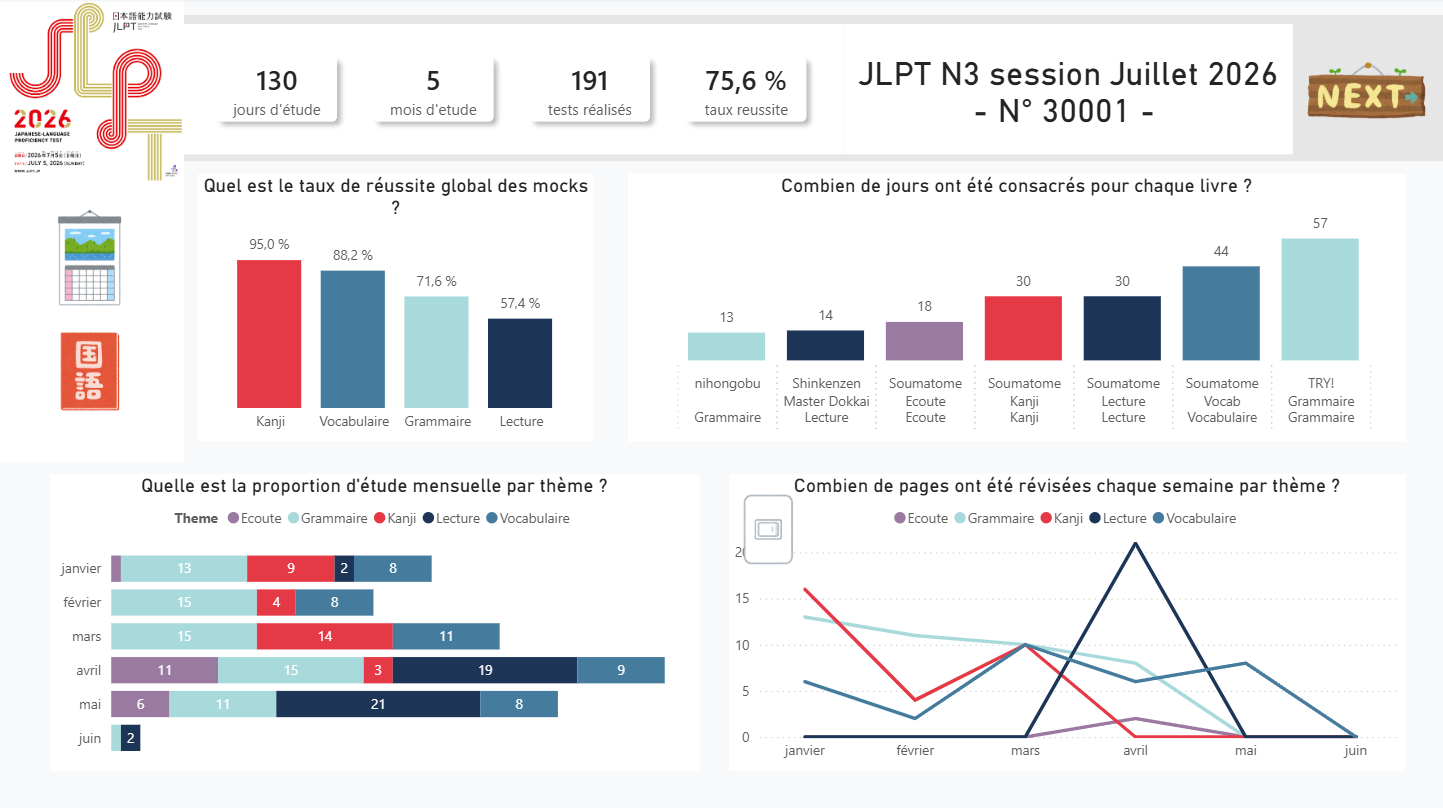

Layout of this report page (visuals, bound fields, positions):
{"tool":"powerbi","page":{"name":"Accueil","canvas":[1280,720],"ordinal":0},"visuals":[{"type":"textbox","box":[165,15,1115,128.8],"z":0},{"type":"lineChart","title":"Quel est le rythme d''avancement mensuel par thème ?","fields":{"Y":["_Mesures.avancement par theme"],"Series":["Dim_Theme.Theme"],"Category":["DimDate.Année Hiérarchie.Mois","DimDate.Année Hiérarchie.Semaine ISO"]},"box":[646,420,597,262],"z":500,"group":"g2"},{"type":"cardVisual","fields":{"Data":["_Mesures.jours etude unique","_Mesures.durée d'etude","_Mesures.nb test fait","_Mesures.taux reussite tests"]},"box":[165.2,23.1,581.7,115.4],"z":1000},{"type":"image","title":"btn_switch graphique1","box":[657,433,48,66],"z":1000,"group":"g2"},{"type":"columnChart","title":"Combien de jours ont été consacrés pour chaque livre ?","fields":{"Category":["Dim_Theme.Theme","Dim_Theme.Livre"],"Y":["_Mesures.jours etude"]},"box":[556.6,155.3,686.3,236.4],"z":2000},{"type":"card","fields":{"Values":["_Mesures.date de passage"]},"box":[746.9,23.1,395.9,115.4],"z":3000},{"type":"columnChart","title":"Quel est le taux de réussite global des mocks ?","fields":{"Y":["_Mesures.taux reussite tests"],"Category":["Dim_Theme.Theme"]},"box":[177.3,155.3,349.3,236.4],"z":4000},{"type":"image","title":"img_mois","box":[48,185,69,89],"z":5000,"group":"g1"},{"type":"barChart","title":"Quelle est la proportion d''étude mensuelle par thème ?","fields":{"Category":["DimDate.Année Hiérarchie.Année","DimDate.Année Hiérarchie.Mois","DimDate.Année Hiérarchie.Jour Semaine"],"Y":["_Mesures.jours etude"],"Series":["Dim_Theme.Theme"]},"box":[47,420,573,262],"z":5000},{"type":"image","title":"img_theme","box":[48,294,69,72],"z":6000,"group":"g1"},{"type":"textbox","box":[0,161,165,248],"z":7000},{"type":"image","box":[0,0,165,161],"z":7500},{"type":"group","id":"g1","title":"menu déroulant","box":[0,0,274,532],"z":8000},{"type":"image","title":"btn_next","box":[1152.5,42.5,112.9,77.7],"z":9000},{"type":"group","id":"g2","title":"graph barre swich","box":[646,420,597,262],"z":10000}]}

Visuals, with their boxes in screenshot pixels (x1, y1, x2, y2), scaled from the page's 1280x720 canvas onto the 1443x808 screenshot:
textbox: BBox(186, 17, 1442, 161)
"Quel est le rythme d''avancement mensuel par thème ?" lineChart: BBox(728, 471, 1401, 765)
cardVisual - _Mesures.jours etude unique x _Mesures.durée d'etude: BBox(186, 26, 842, 155)
"btn_switch graphique1" image: BBox(741, 486, 795, 560)
"Combien de jours ont été consacrés pour chaque livre ?" columnChart: BBox(627, 174, 1401, 440)
card - _Mesures.date de passage: BBox(842, 26, 1288, 155)
"Quel est le taux de réussite global des mocks ?" columnChart: BBox(200, 174, 594, 440)
"img_mois" image: BBox(54, 208, 132, 307)
"Quelle est la proportion d''étude mensuelle par thème ?" barChart: BBox(53, 471, 699, 765)
"img_theme" image: BBox(54, 330, 132, 411)
textbox: BBox(0, 181, 186, 459)
image: BBox(0, 0, 186, 181)
"menu déroulant" group: BBox(0, 0, 309, 597)
"btn_next" image: BBox(1299, 48, 1427, 135)
"graph barre swich" group: BBox(728, 471, 1401, 765)
